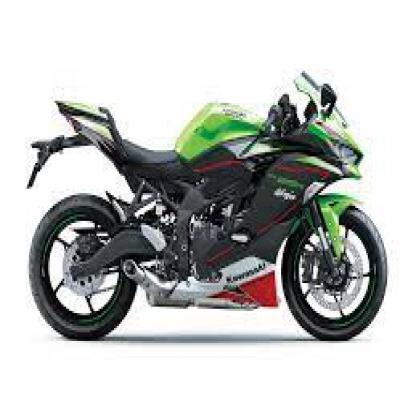Motorcycle: (19, 67, 392, 347)
